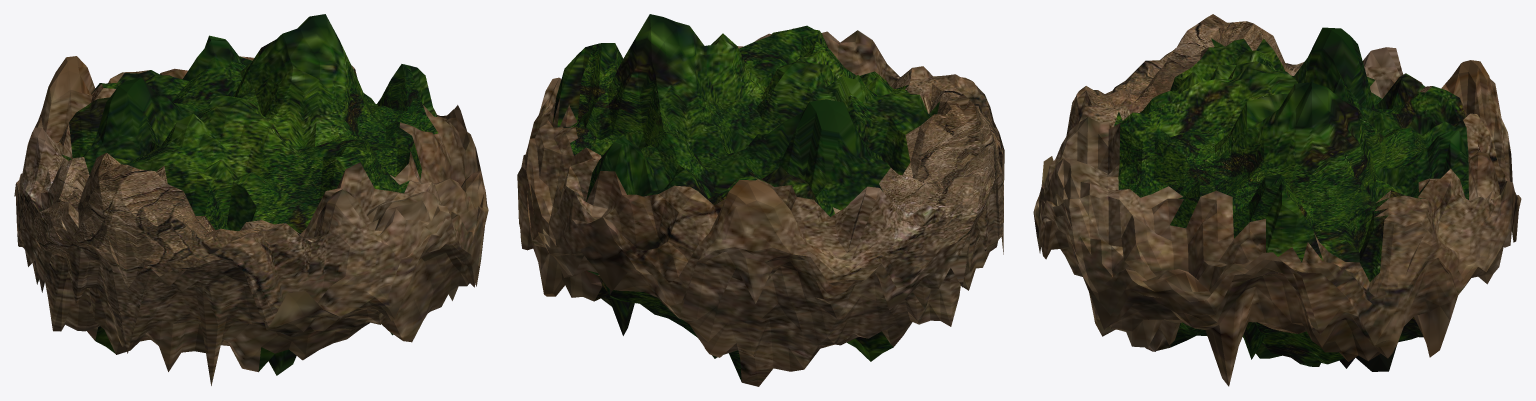
The model's file is medium-island.obj.
The picture shows the model from 3 angles, left to right: view 1: azimuth 30°, elevation 25°; view 2: azimuth 150°, elevation 25°; view 3: azimuth 270°, elevation 25°; orthographic projection. The views are drawn at different scales.
Size of the model in its own units: 29.99 by 20 by 29.99.
